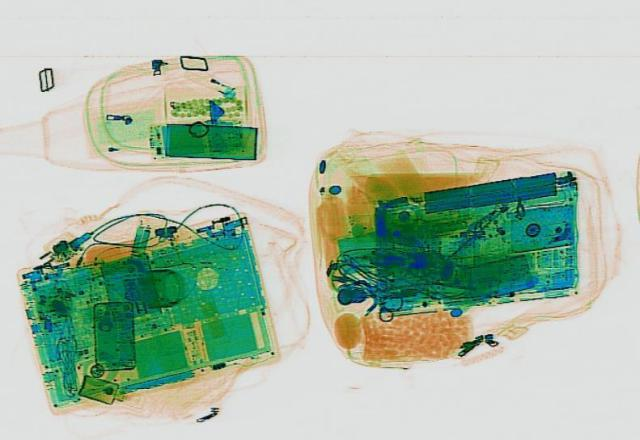Scissors: (340, 277, 410, 321)
